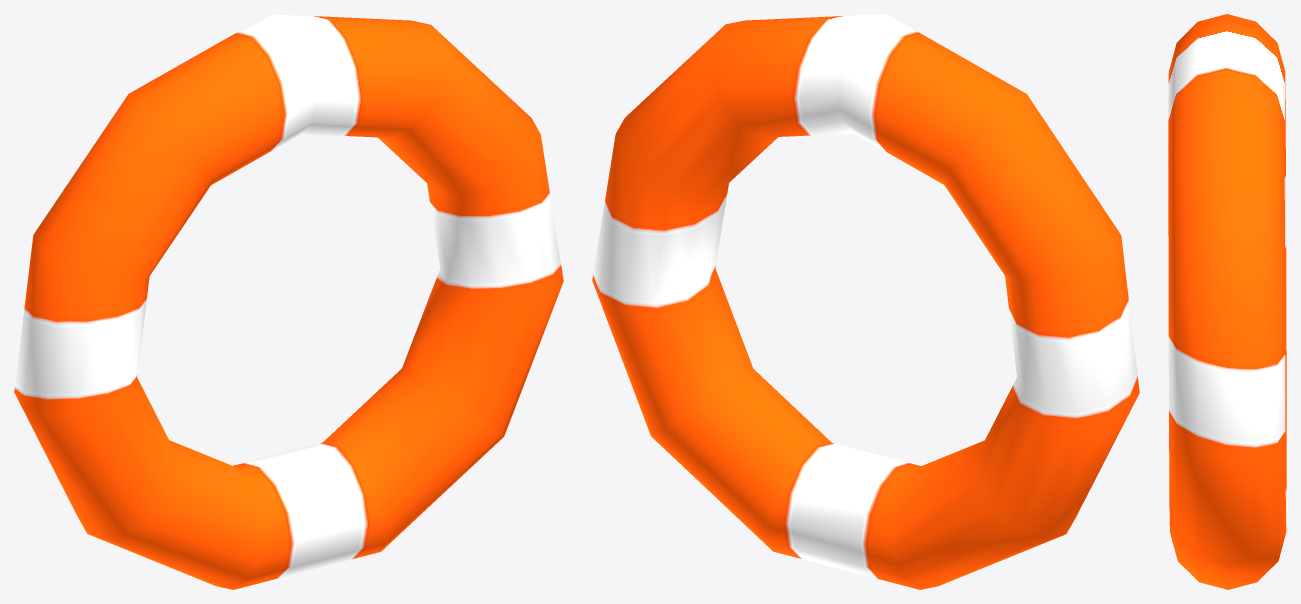
File: orange_lifering.glb
3 renders of one model, left to right at view 1: azimuth 30°, elevation 25°; view 2: azimuth 150°, elevation 25°; view 3: azimuth 270°, elevation 25°, orthographic. The views are drawn at different scales.
Visible parts, largest first — view 1: Orange_LifeRing; view 2: Orange_LifeRing; view 3: Orange_LifeRing.
Part boxes in pixels (x1=…): Orange_LifeRing: x1=14, y1=14, x2=563, y2=589; Orange_LifeRing: x1=592, y1=14, x2=1139, y2=589; Orange_LifeRing: x1=1168, y1=14, x2=1286, y2=589.
Bounding box in the file's own units: 0.5359 × 0.5315 × 0.11.
1 material, 1 textured.
